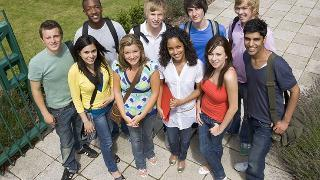person - v3 P: (29, 20, 98, 179), (235, 19, 300, 179), (68, 35, 125, 179), (157, 27, 204, 173), (112, 34, 159, 177), (197, 36, 237, 179), (227, 0, 259, 155), (83, 0, 118, 66), (184, 0, 213, 64)
